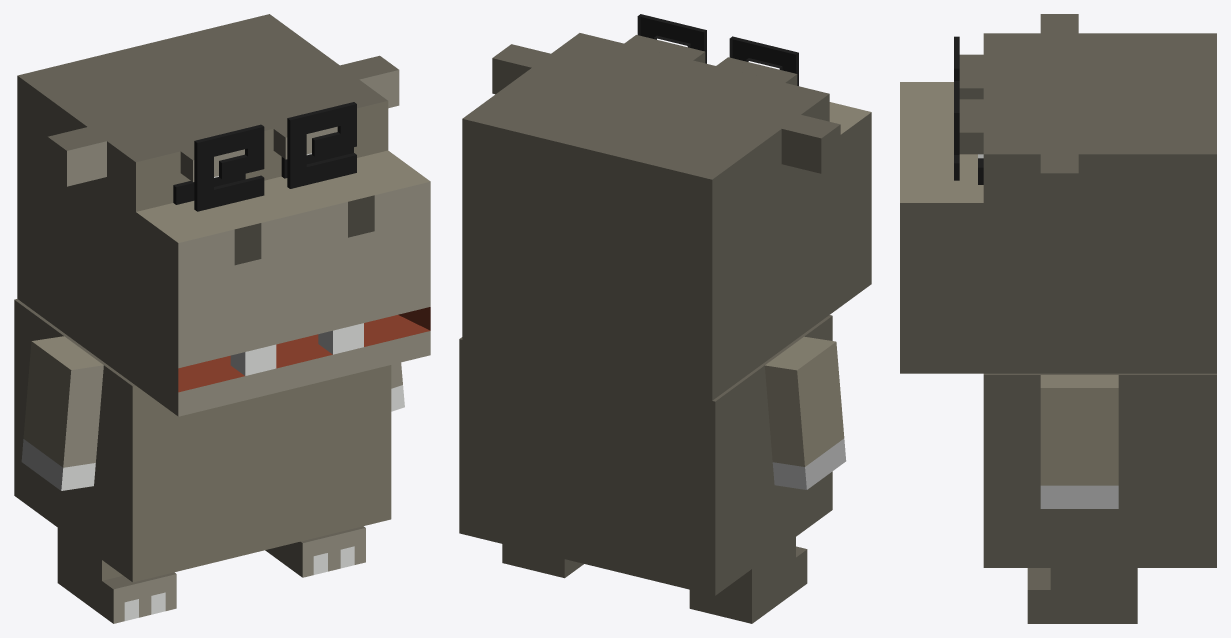
3 renders of one model, left to right at view 1: azimuth 30°, elevation 25°; view 2: azimuth 150°, elevation 25°; view 3: azimuth 270°, elevation 25°, orthographic.
Parts seen in each view (by area): view 1: Ch_185_Head, Ch_185, Ch_185_Arm_L, Ch_185_Leg_L, Ch_185_Eye_03_L, Ch_185_Eye_03_R, Ch_185_Leg_R, Ch_185_Eye_02, Ch_185_Arm_R; view 2: Ch_185_Head, Ch_185, Ch_185_Arm_L, Ch_185_Leg_L, Ch_185_Eye_03_R, Ch_185_Eye_03_L, Ch_185_Leg_R; view 3: Ch_185_Head, Ch_185, Ch_185_Arm_R, Ch_185_Leg_R, Ch_185_Eye_03_R.
Part boxes in pixels (bbox=[...]): Ch_185_Head: bbox=[17, 14, 430, 416]; Ch_185: bbox=[14, 299, 391, 582]; Ch_185_Arm_L: bbox=[21, 336, 103, 490]; Ch_185_Leg_L: bbox=[57, 528, 176, 623]; Ch_185_Eye_03_L: bbox=[194, 124, 264, 211]; Ch_185_Eye_03_R: bbox=[287, 102, 356, 188]; Ch_185_Leg_R: bbox=[265, 526, 365, 577]; Ch_185_Eye_02: bbox=[173, 147, 353, 204]; Ch_185_Arm_R: bbox=[391, 362, 404, 411]; Ch_185_Head: bbox=[462, 33, 871, 400]; Ch_185: bbox=[459, 315, 832, 595]; Ch_185_Arm_L: bbox=[764, 336, 846, 489]; Ch_185_Leg_L: bbox=[689, 537, 807, 623]; Ch_185_Eye_03_R: bbox=[637, 14, 706, 63]; Ch_185_Eye_03_L: bbox=[729, 36, 798, 85]; Ch_185_Leg_R: bbox=[502, 544, 583, 578]; Ch_185_Head: bbox=[900, 14, 1216, 373]; Ch_185: bbox=[983, 373, 1216, 567]; Ch_185_Arm_R: bbox=[1040, 375, 1118, 508]; Ch_185_Leg_R: bbox=[1027, 568, 1137, 623]; Ch_185_Eye_03_R: bbox=[954, 81, 959, 180].
Size of the model in its own units: 8.58 by 11.86 by 6.97.
